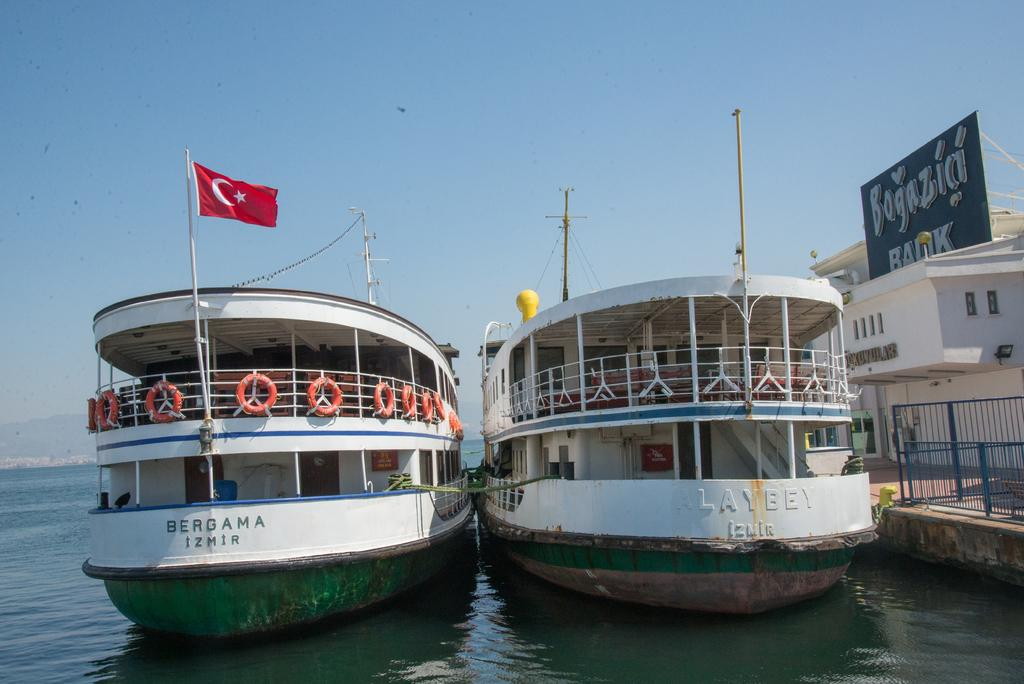PassengerShip: (74, 204, 508, 652), (478, 225, 880, 616)
